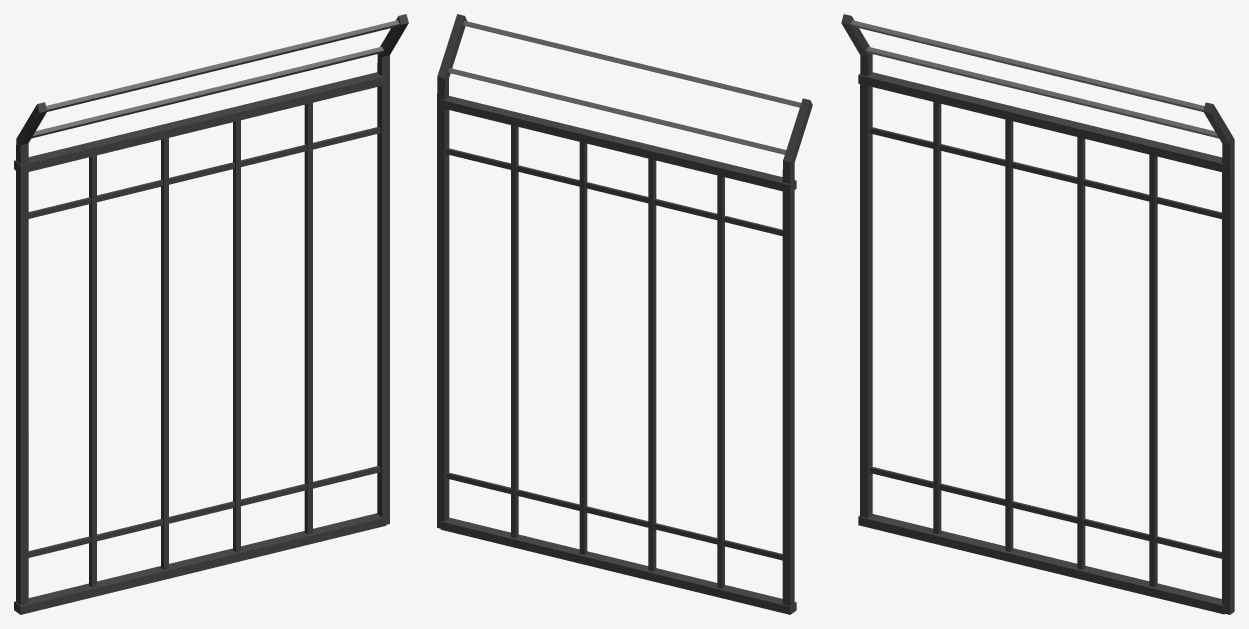
File: SM_IndustrialProps_Fence_03L.fbx
3 views of the same model, side by side, from view 1: azimuth 30°, elevation 25°; view 2: azimuth 150°, elevation 25°; view 3: azimuth 330°, elevation 25° (orthographic). The views are drawn at different scales.
Parts seen in each view (by area): view 1: SM_IndustrialProps_Fence_03L; view 2: SM_IndustrialProps_Fence_03L; view 3: SM_IndustrialProps_Fence_03L.
Part boxes in pixels (x1,y1,x2,y2): SM_IndustrialProps_Fence_03L: (14,14,408,614); SM_IndustrialProps_Fence_03L: (437,14,812,614); SM_IndustrialProps_Fence_03L: (841,14,1234,614).
Bounding box in the file's own units: 1.84 × 2.47 × 0.2107.
